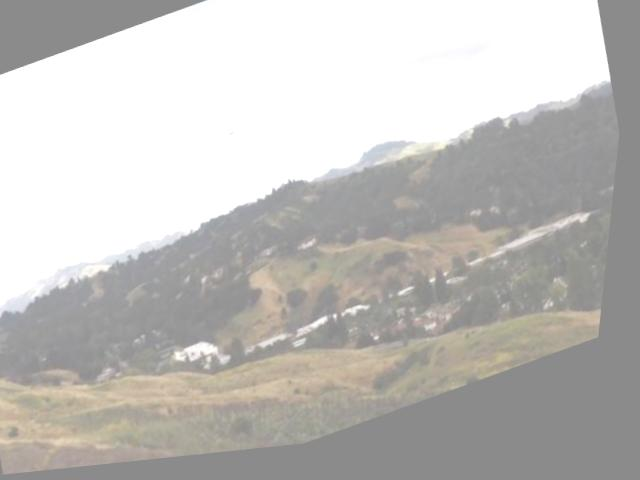iha: (216, 125, 249, 150)
